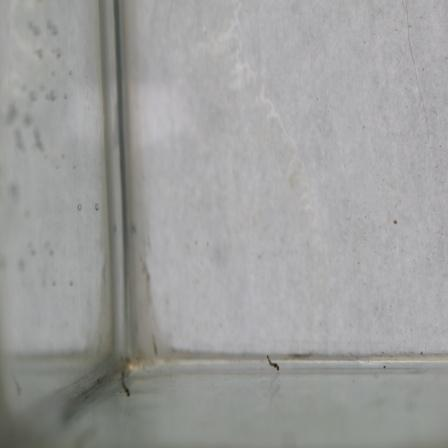Jentik-Nyamuk: (265, 353, 282, 374), (120, 370, 131, 399)
